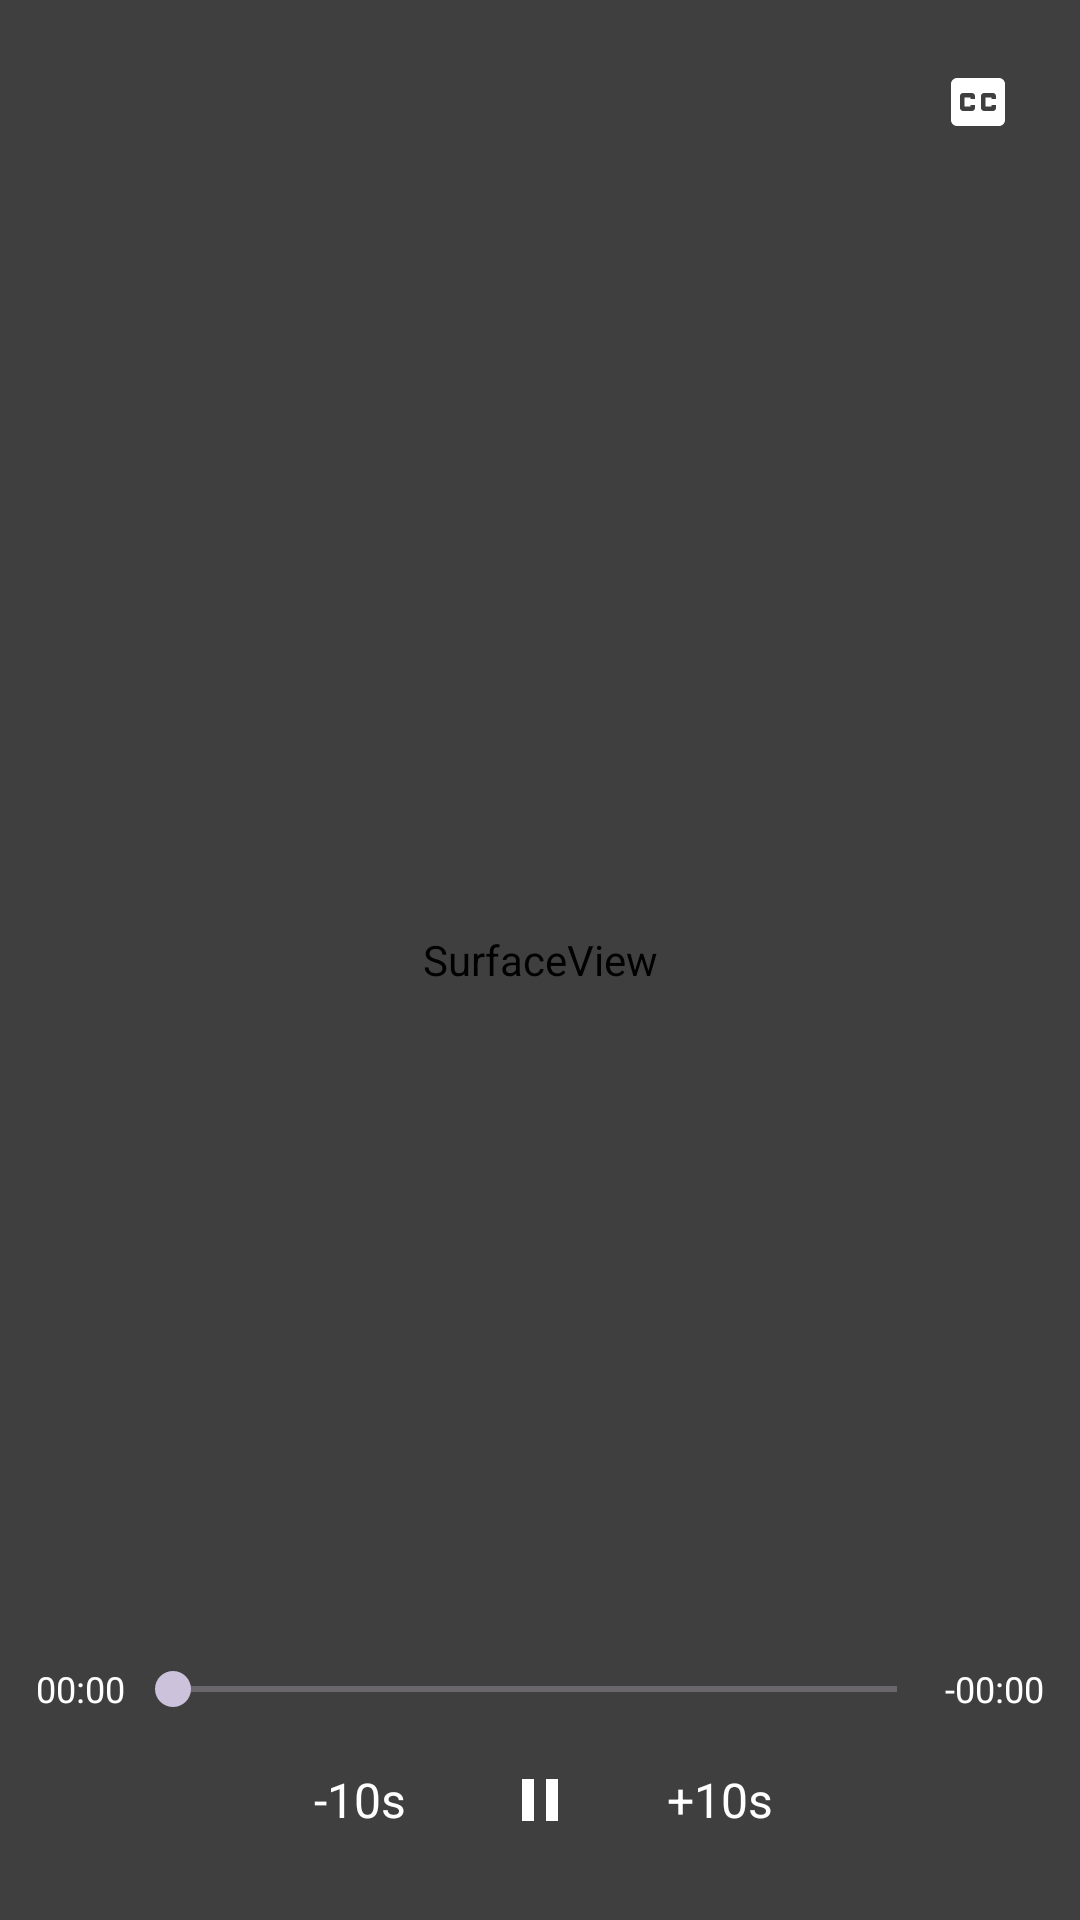

Icons on this 1080*1920 Android screen, each with its box as (x1, y1, x2, y2):
Choose subtitle: (951, 78, 1005, 126)
Play or pause: (522, 1779, 558, 1821)
